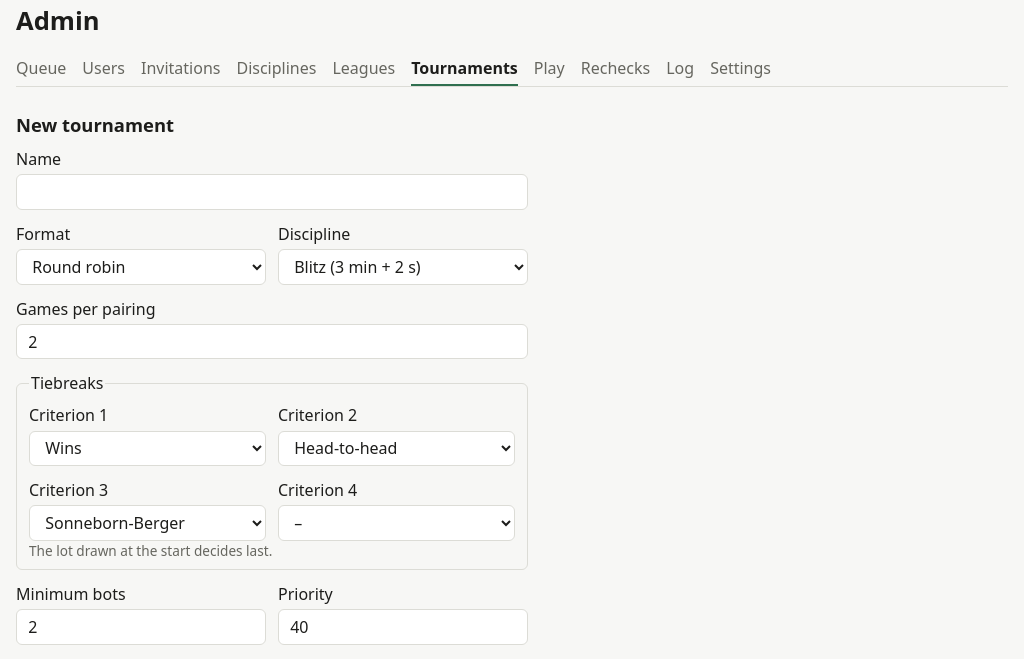
Test: admin tournaments › names a taken tournament name
The width and height of the screenshot is (1024, 659).
Type "Herbstcup" into the field labelled "Name". click: point(272, 192)
box: [16,174,528,210]
(page scrolled)
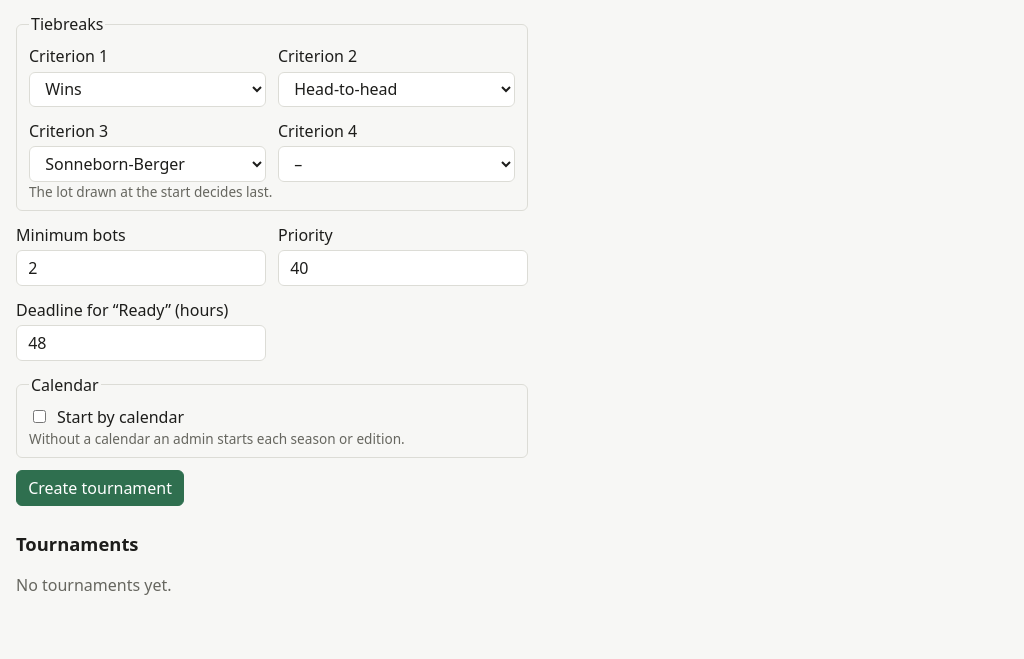
Click the button "Create tournament". click: point(100, 488)
box: [16,470,184,506]
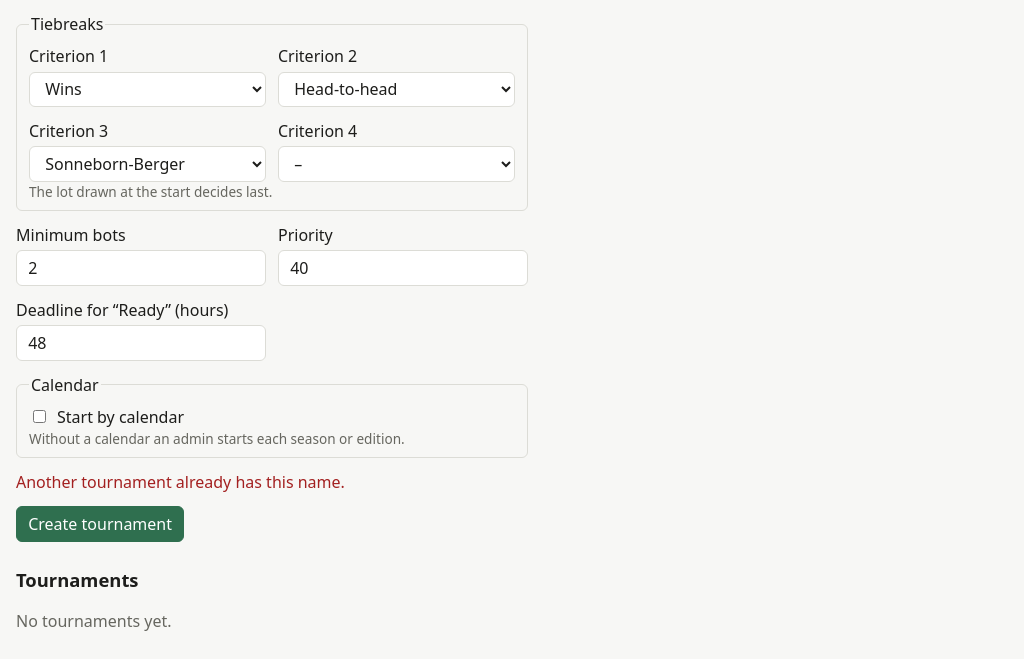
Expected: the message reads "Another tournament already has this name.", [16,471,345,493]
